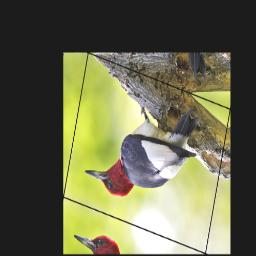Woodpecker: (84, 73, 204, 223)
